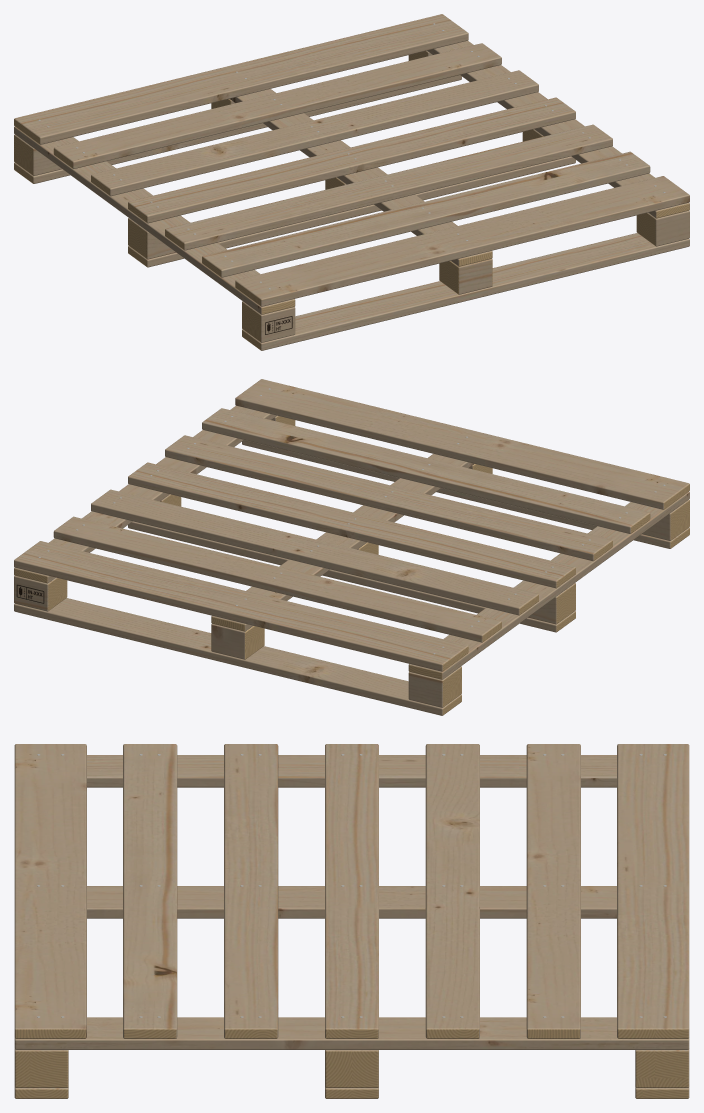
File: pw03-pinewood-pallet-1120x1120.glb
The picture shows the model from 3 angles, top to bottom: view 1: azimuth 30°, elevation 25°; view 2: azimuth 150°, elevation 25°; view 3: azimuth 270°, elevation 25°; orthographic projection. The views are drawn at different scales.
Parts seen in each view (by area): view 1: pw03-pinewood-pallet-1120x1120; view 2: pw03-pinewood-pallet-1120x1120; view 3: pw03-pinewood-pallet-1120x1120.
Part boxes in pixels (bbox=[...]): pw03-pinewood-pallet-1120x1120: bbox=[14, 14, 689, 350]; pw03-pinewood-pallet-1120x1120: bbox=[14, 379, 689, 715]; pw03-pinewood-pallet-1120x1120: bbox=[14, 744, 689, 1098].
Size of the model in its own units: 1.12 by 0.1309 by 1.12.
Materials: 4 (3 with a texture image).
